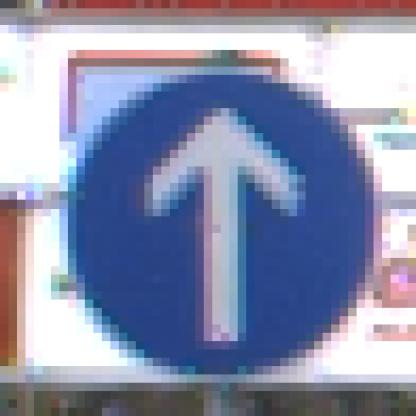AheadOnly: (52, 51, 366, 375)
